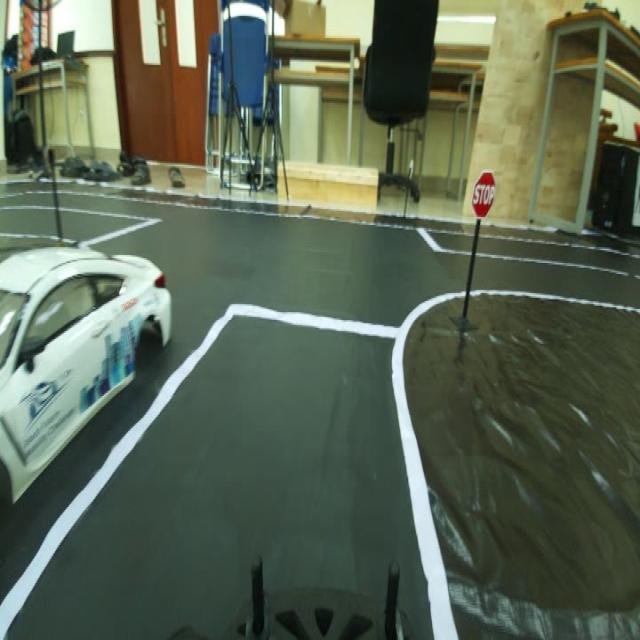car: (3, 232, 181, 544)
stop: (463, 158, 503, 232)
